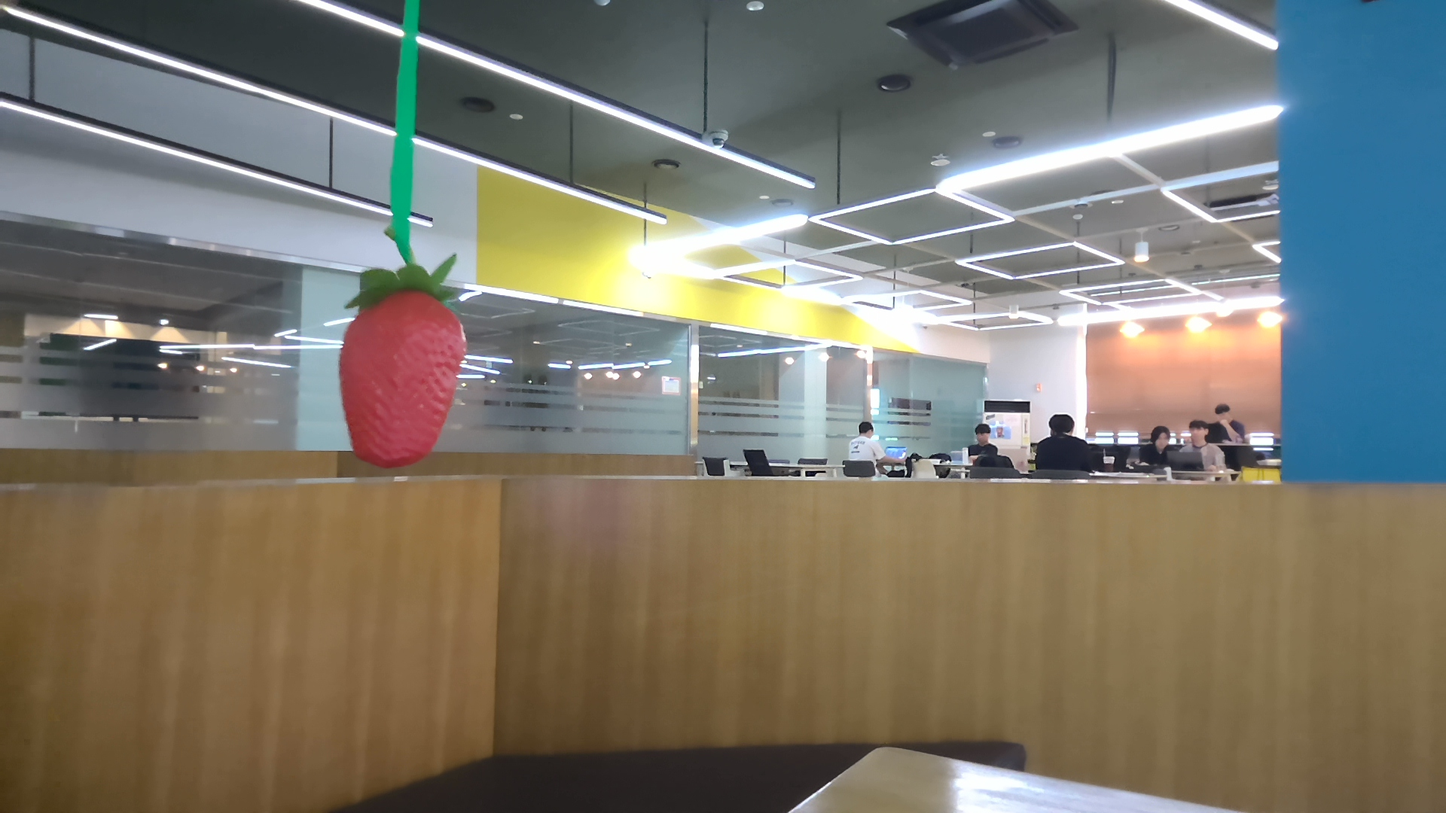strawberry: (321, 276, 477, 470)
